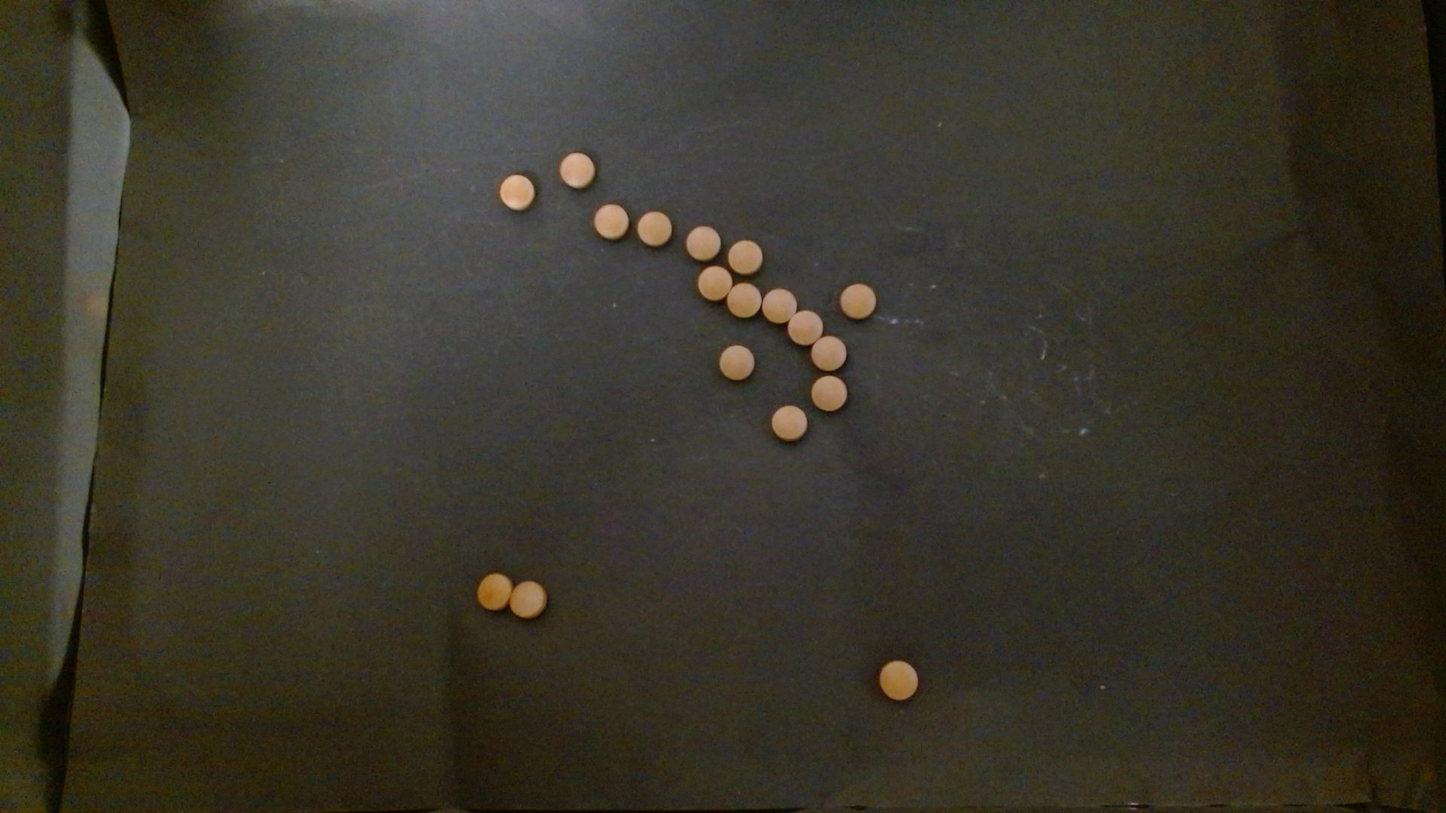Circle: (878, 659, 917, 701), (810, 374, 848, 413), (508, 580, 546, 619), (497, 172, 536, 210), (476, 571, 513, 611), (636, 210, 673, 248), (770, 404, 807, 442), (810, 335, 847, 373), (558, 151, 596, 188), (838, 283, 877, 319), (718, 344, 755, 381), (761, 288, 798, 325), (593, 202, 629, 239), (787, 309, 823, 345), (685, 225, 720, 262), (697, 264, 732, 300), (727, 239, 762, 275), (728, 284, 760, 318)
